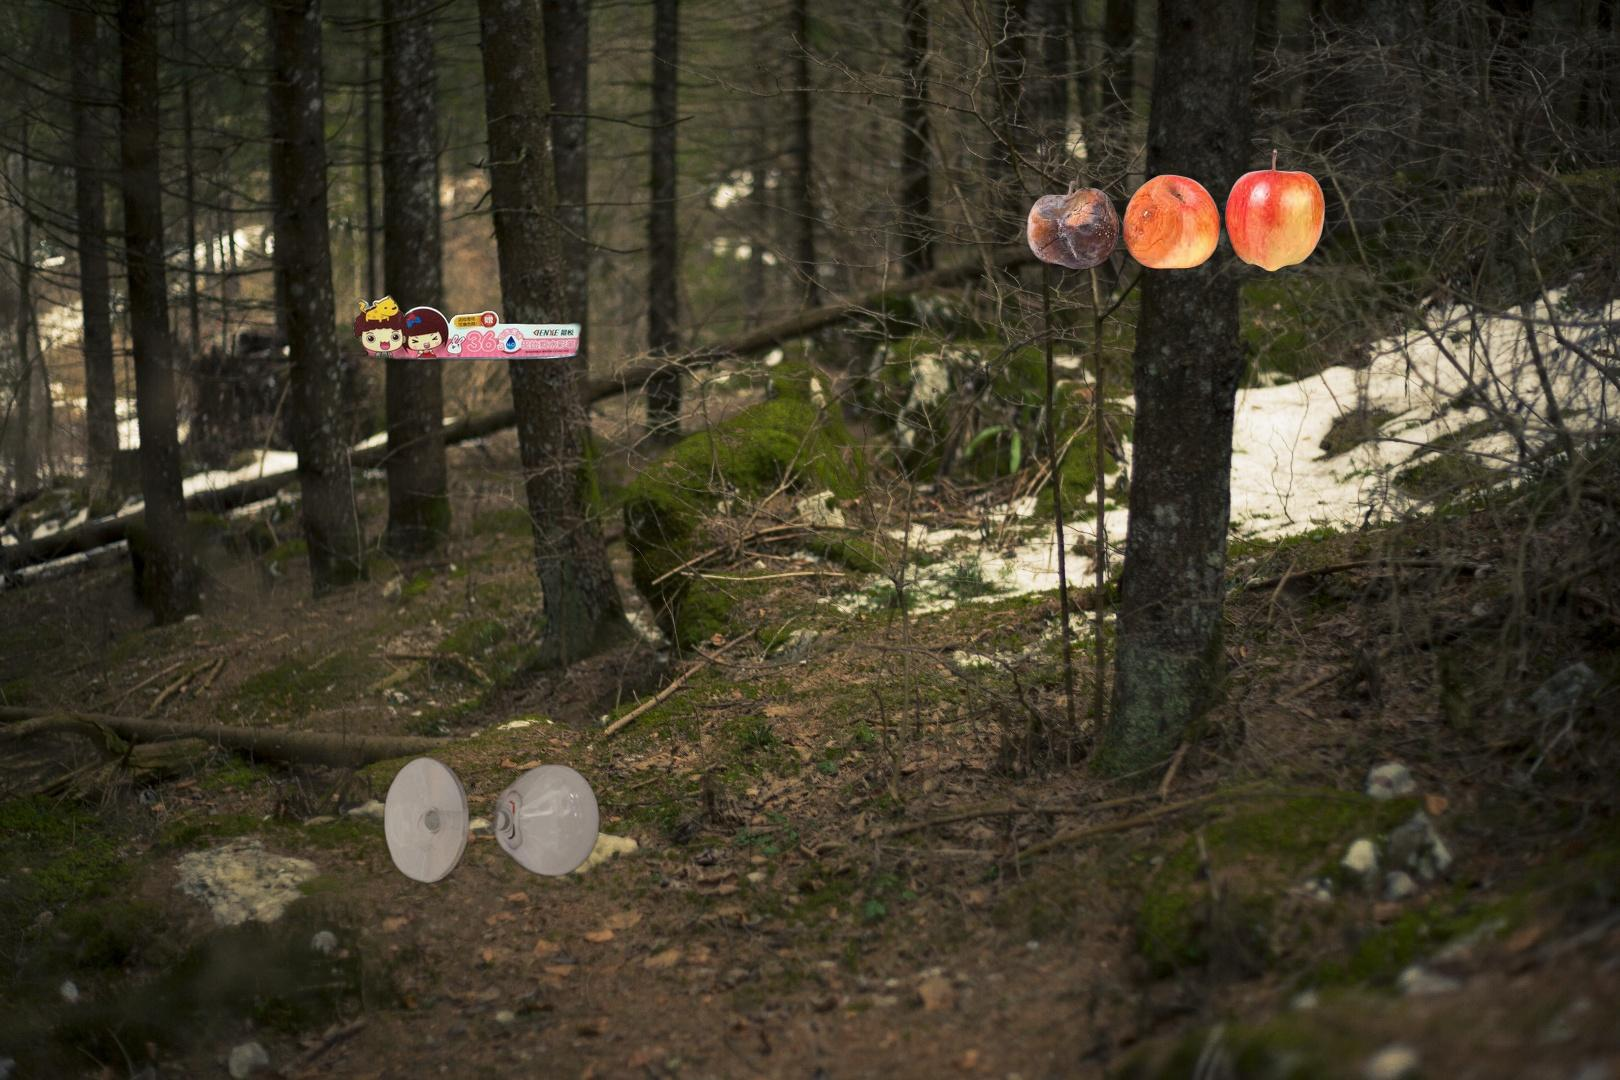biological: (1025, 146, 1326, 275)
glass: (378, 755, 605, 886)
penholder: (337, 209, 585, 363)
